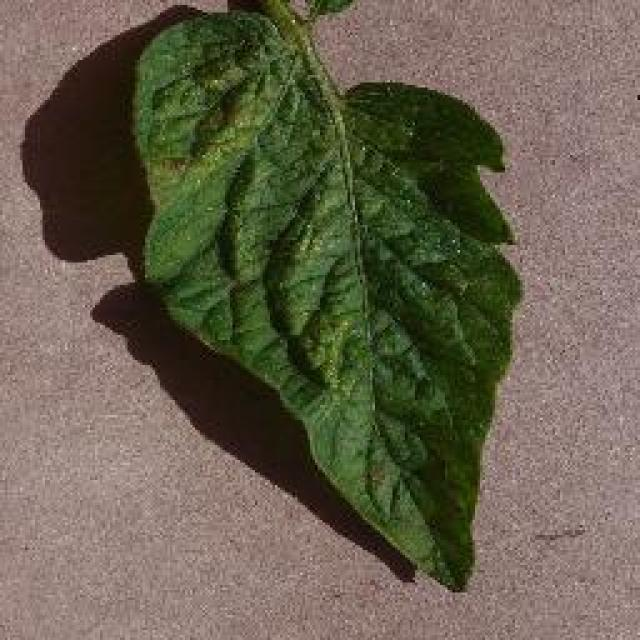Tomato___Spider_mites Two-spotted_spider_mite: (132, 0, 518, 590)
